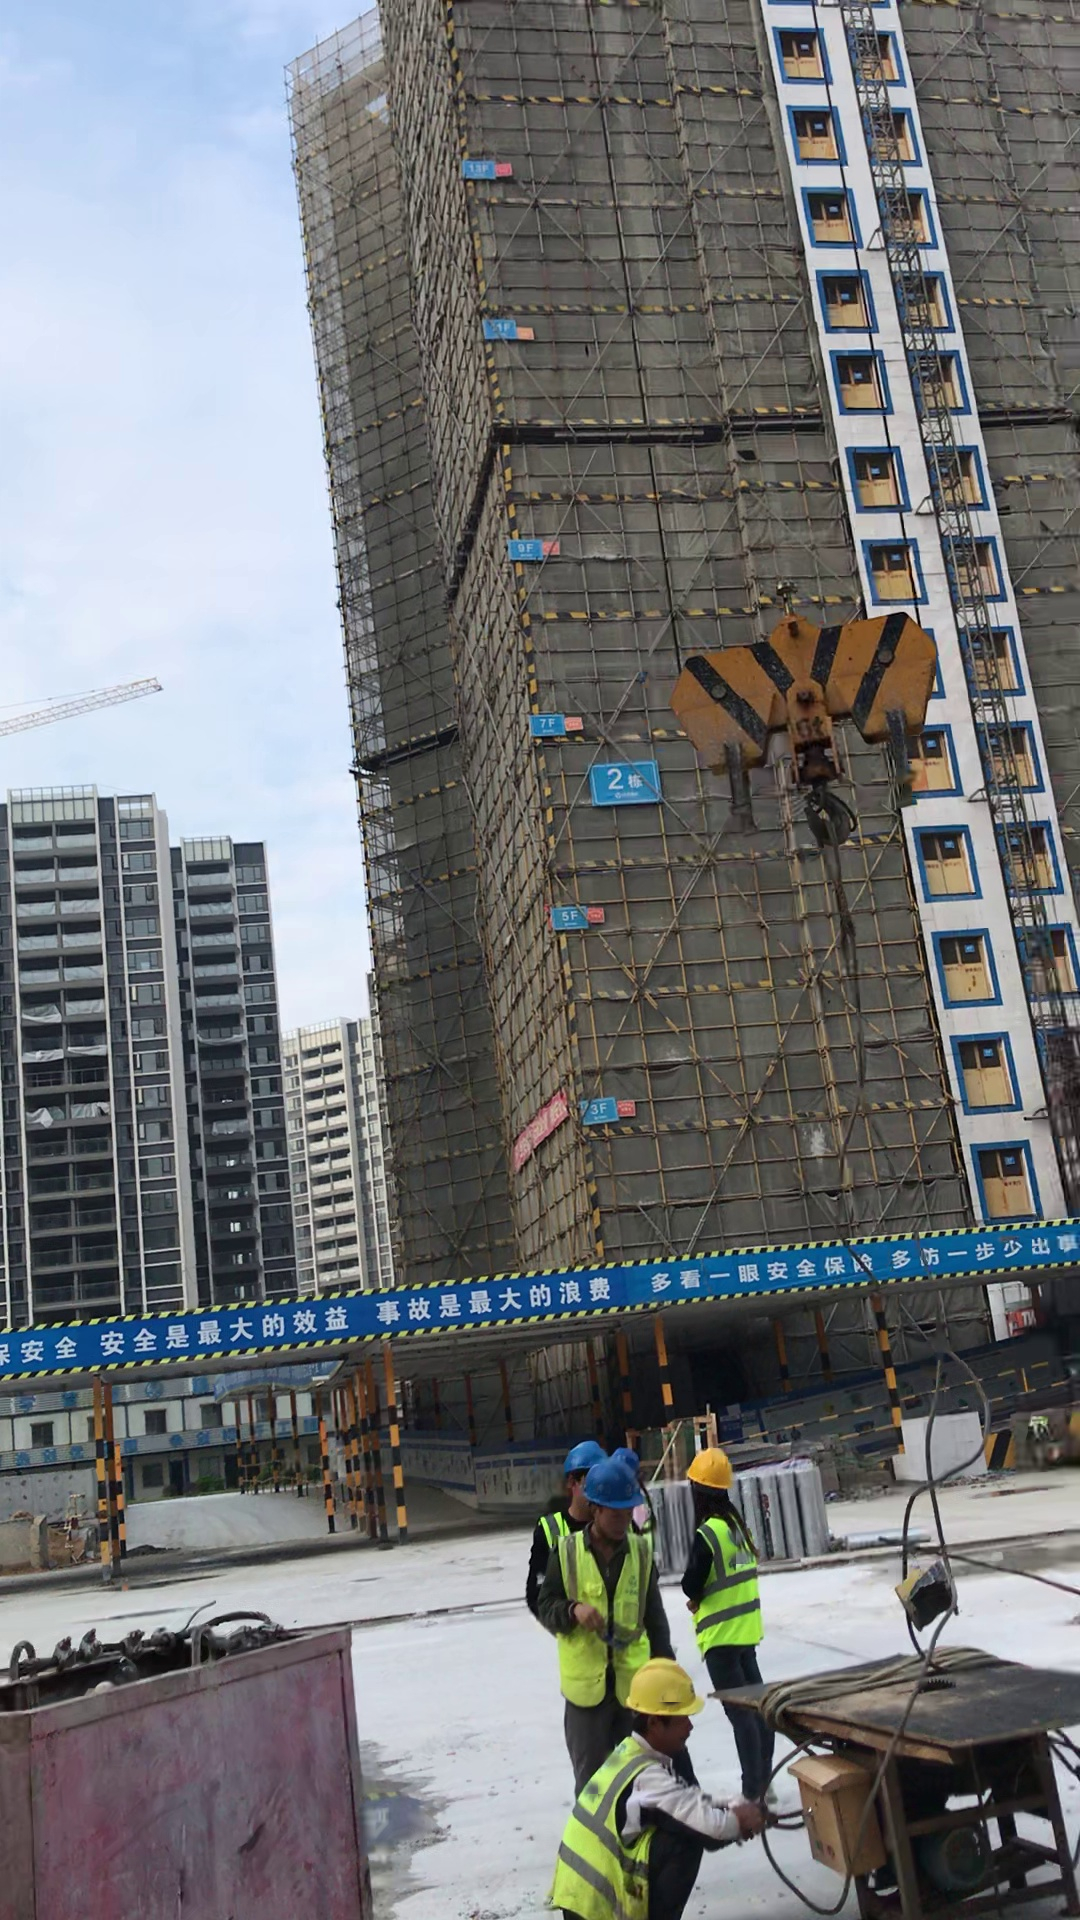brick: (890, 1413, 985, 1490)
cutter: (718, 1640, 1080, 1917)
helmet: (624, 1661, 703, 1717), (581, 1463, 646, 1512), (686, 1447, 734, 1490), (561, 1443, 603, 1469), (613, 1445, 642, 1467)
hook: (669, 612, 943, 852)
person: (535, 1663, 781, 1920), (528, 1443, 702, 1774), (673, 1451, 802, 1802)
slogan: (3, 1267, 610, 1377), (654, 1219, 1080, 1298)
vest: (551, 1731, 693, 1920), (557, 1530, 656, 1706), (688, 1518, 761, 1657)
